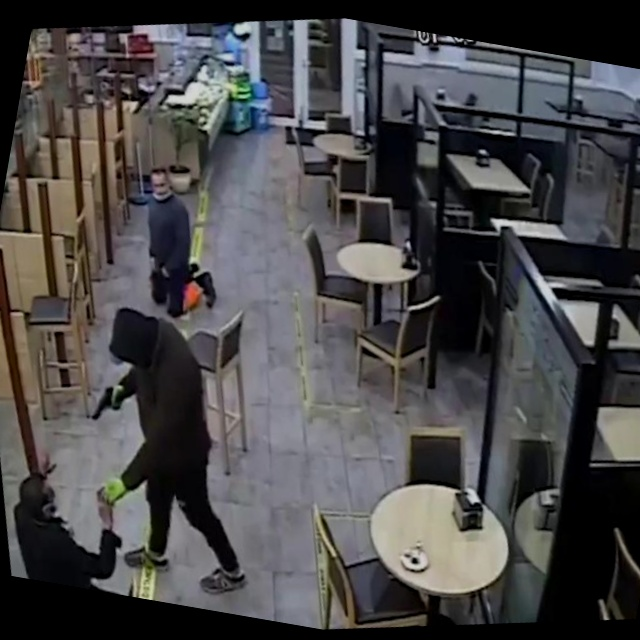gun: (71, 370, 139, 441)
